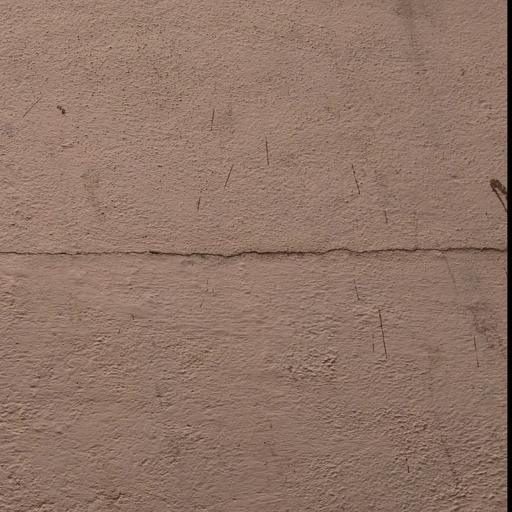minor_crack: (0, 234, 512, 271)
